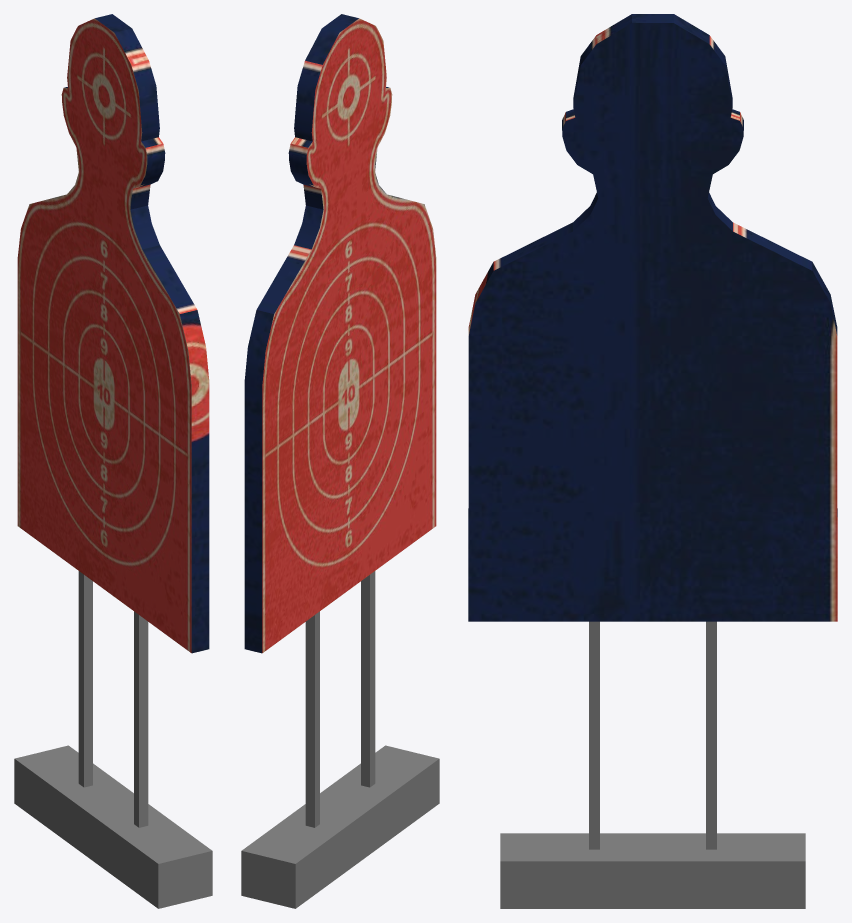
Rendered from TartetModel.fbx.
3 renders of one model, left to right at view 1: azimuth 30°, elevation 25°; view 2: azimuth 150°, elevation 25°; view 3: azimuth 270°, elevation 25°, orthographic. The views are drawn at different scales.
Visible parts, largest first — view 1: Cube, Cube.001; view 2: Cube, Cube.001; view 3: Cube, Cube.001.
Part boxes in pixels (x1,y1,x2,y2): Cube: (17, 14, 209, 653); Cube.001: (14, 571, 212, 908); Cube: (244, 14, 436, 653); Cube.001: (241, 571, 439, 908); Cube: (468, 14, 837, 621); Cube.001: (500, 621, 805, 908).
Size of the model in its own units: 43.38 by 633 by 242.
Materials: 2 (1 with a texture image).
